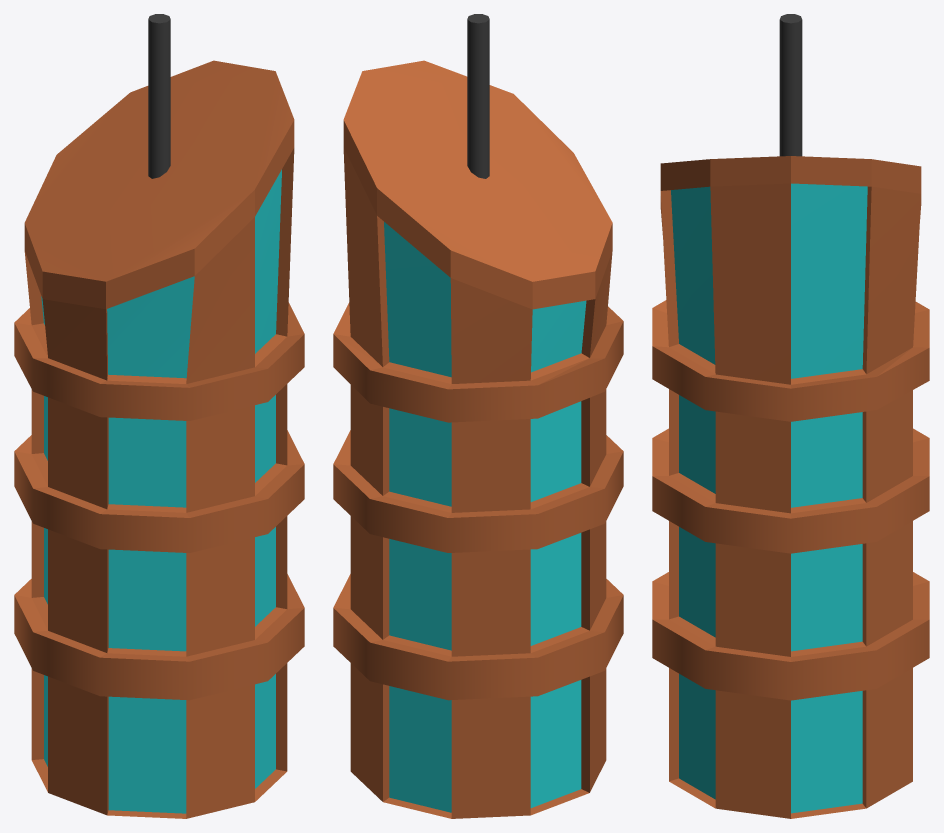
Rendered from building4.FBX.
3 views of the same model, side by side, from view 1: azimuth 30°, elevation 25°; view 2: azimuth 150°, elevation 25°; view 3: azimuth 270°, elevation 25° (orthographic).
Parts seen in each view (by area): view 1: Cylinder001; view 2: Cylinder001; view 3: Cylinder001.
Part boxes in pixels (bbox=[...]): Cylinder001: bbox=[14, 14, 304, 818]; Cylinder001: bbox=[333, 14, 623, 818]; Cylinder001: bbox=[652, 14, 929, 818].
Bounding box in the file's own units: 45.67 × 129 × 43.44.
